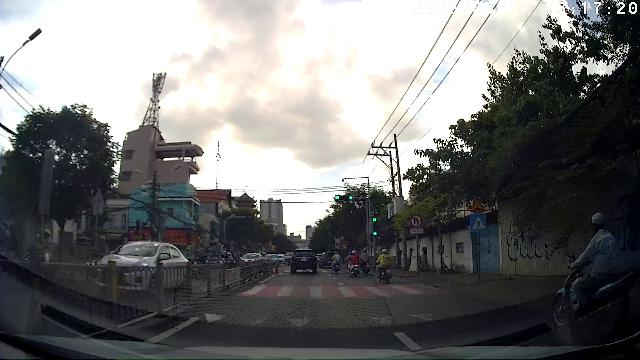124b-cam-oto-quay-dau-xe: (410, 215, 423, 227)
423a-duong-nguoi-di-bo-sang-ngang-1: (471, 214, 486, 232)
